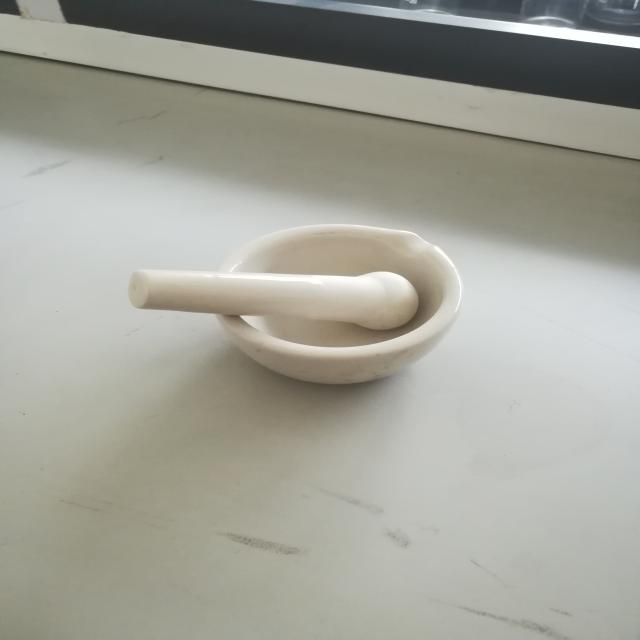Porcelain_Mortar Pestle: (104, 194, 478, 418)
